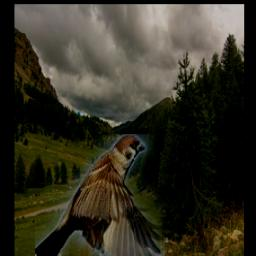Sparrow: (36, 134, 166, 256)
